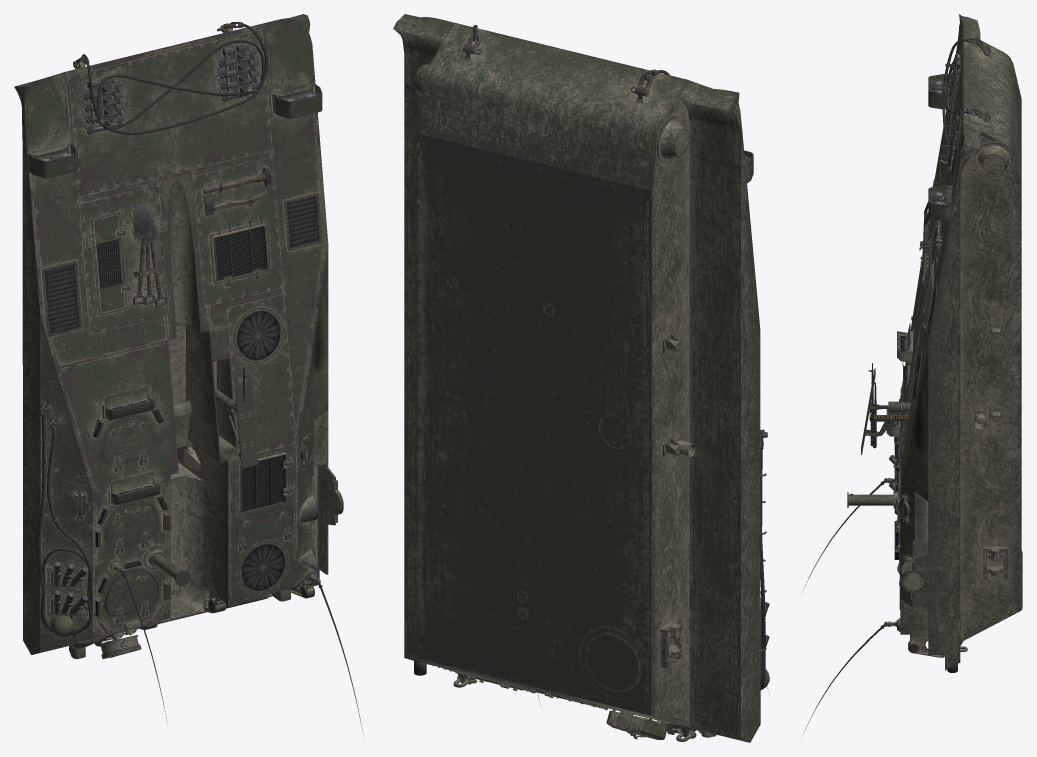
Rendered from Hull.glb.
3 views of the same model, side by side, from view 1: azimuth 30°, elevation 25°; view 2: azimuth 150°, elevation 25°; view 3: azimuth 270°, elevation 25° (orthographic). The views are drawn at different scales.
Visible parts, largest first — view 1: set_0_group_0; view 2: set_0_group_0; view 3: set_0_group_0.
Part boxes in pixels (bbox=[...]): set_0_group_0: bbox=[14, 14, 362, 732]; set_0_group_0: bbox=[393, 14, 769, 742]; set_0_group_0: bbox=[803, 14, 1022, 733].
Bounding box in the file's own units: 3.25 × 7.05 × 2.3.
1 material, 1 textured.
